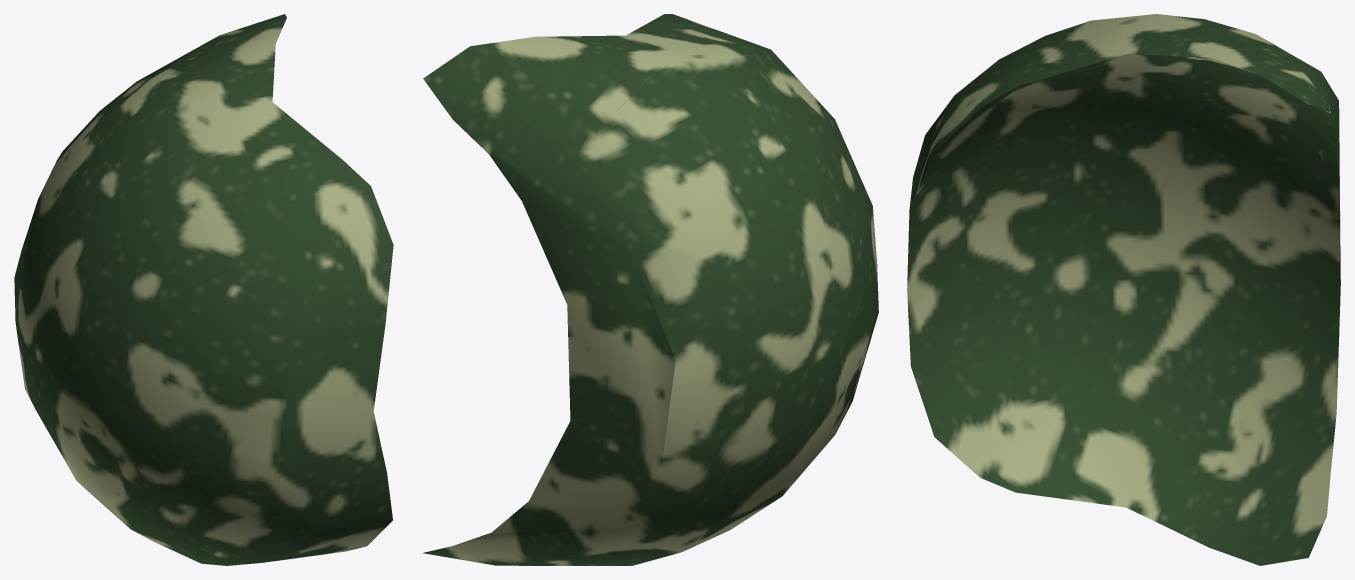
Rendered from link_body_10.obj.
The picture shows the model from 3 angles, left to right: view 1: azimuth 30°, elevation 25°; view 2: azimuth 150°, elevation 25°; view 3: azimuth 270°, elevation 25°; orthographic projection. The views are drawn at different scales.
Parts seen in each view (by area): view 1: link_body_10; view 2: link_body_10; view 3: link_body_10.
Part boxes in pixels (x1=…): link_body_10: x1=14, y1=14, x2=393, y2=565; link_body_10: x1=422, y1=14, x2=878, y2=565; link_body_10: x1=907, y1=14, x2=1340, y2=565.
Size of the model in its own units: 10.75 by 15.62 by 12.51.
